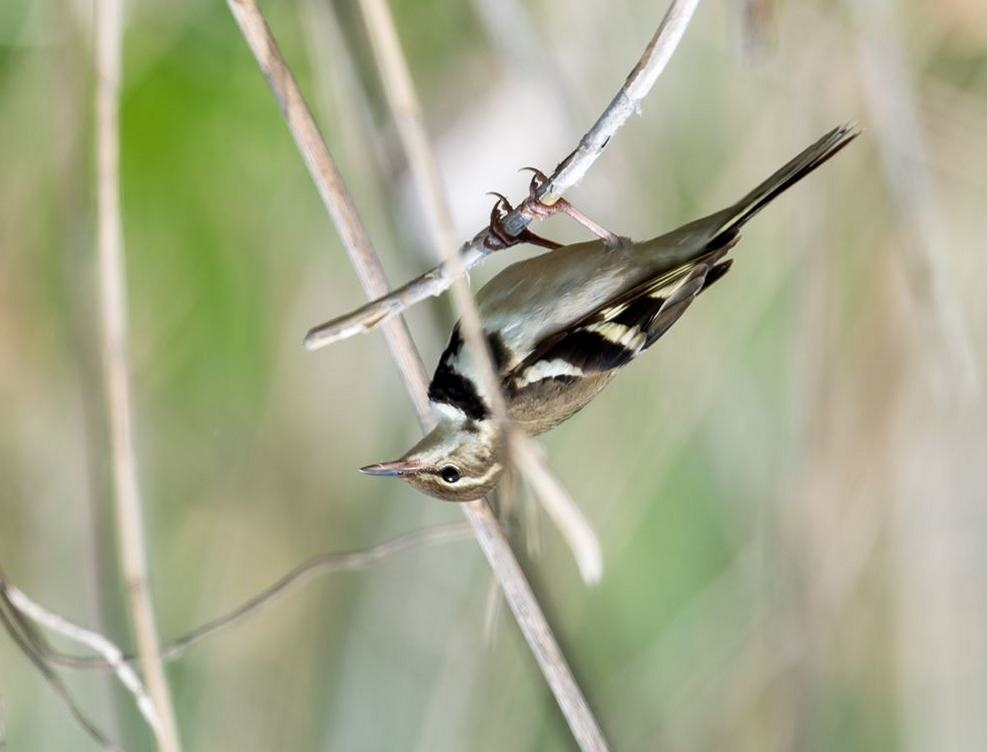wagtail: (368, 154, 826, 534)
